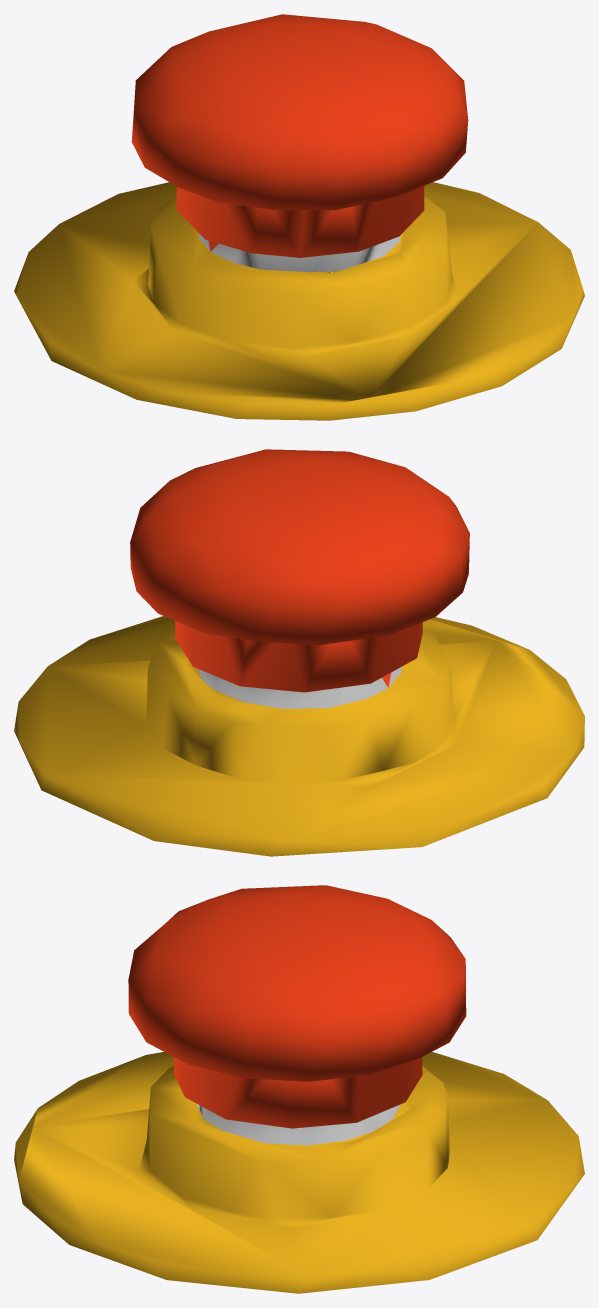
Rendered from button.glb.
3 views of the same model, one above another, from view 1: azimuth 30°, elevation 25°; view 2: azimuth 150°, elevation 25°; view 3: azimuth 270°, elevation 25° (orthographic).
Visible parts, largest first — view 1: Red pannic button; view 2: Red pannic button; view 3: Red pannic button.
Boxes of the visible parts, x1=… form: Red pannic button: x1=14, y1=14, x2=584, y2=420; Red pannic button: x1=14, y1=449, x2=584, y2=856; Red pannic button: x1=14, y1=885, x2=584, y2=1293.
Bounding box in the file's own units: 1.05 × 0.504 × 1.04.
